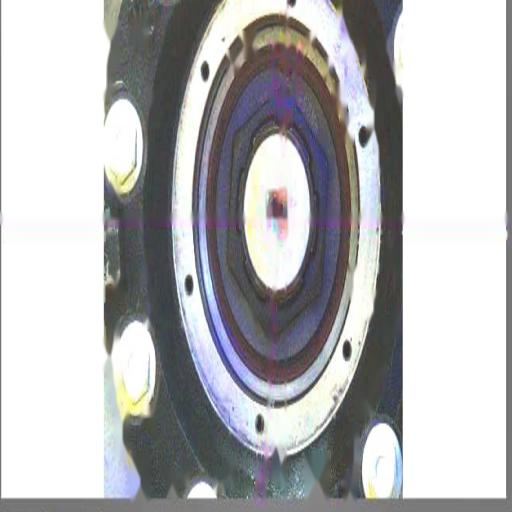center: (265, 186, 288, 230)
notch: (278, 54, 294, 90)
